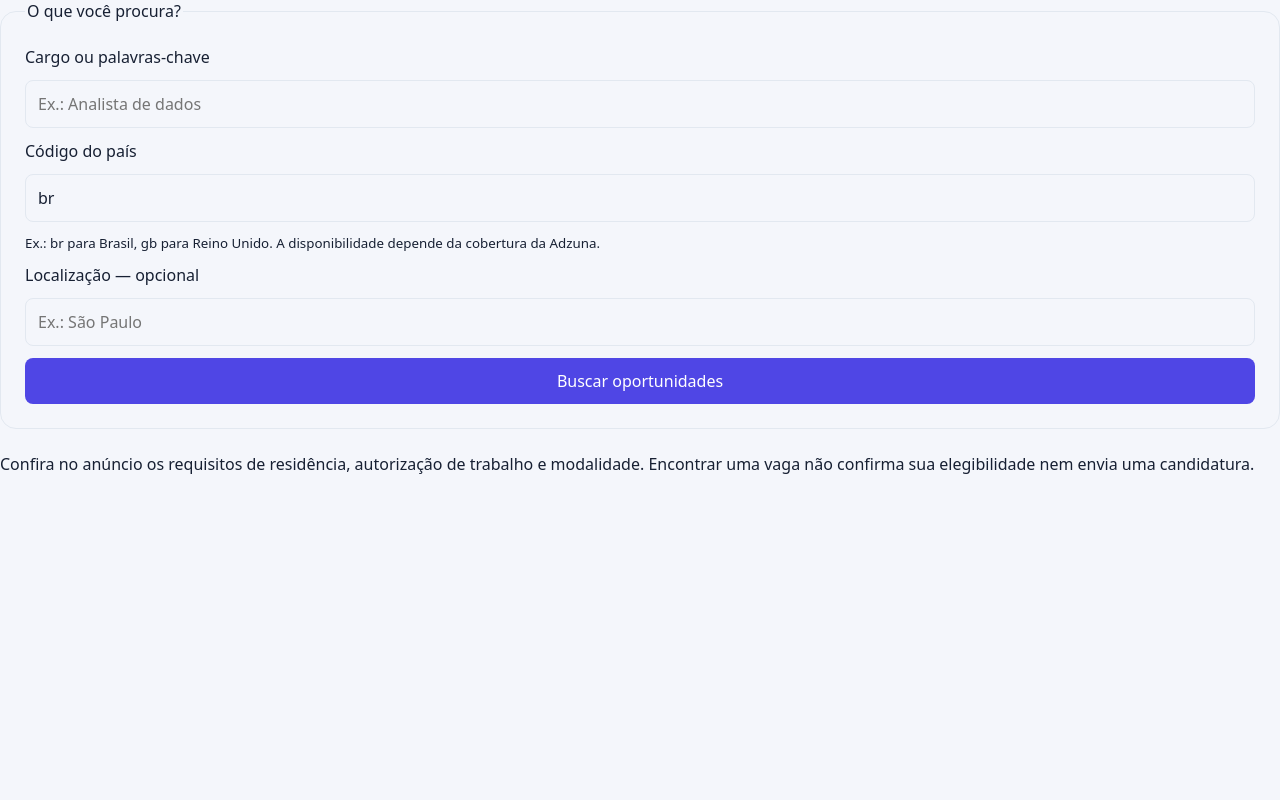
it: Busca de oportunidades › envia os filtros e mostra a vaga retornada
Type "Analista de dados" into the field labelled "Cargo ou palavras-chave" at (640, 104), box [25,80,1255,128]
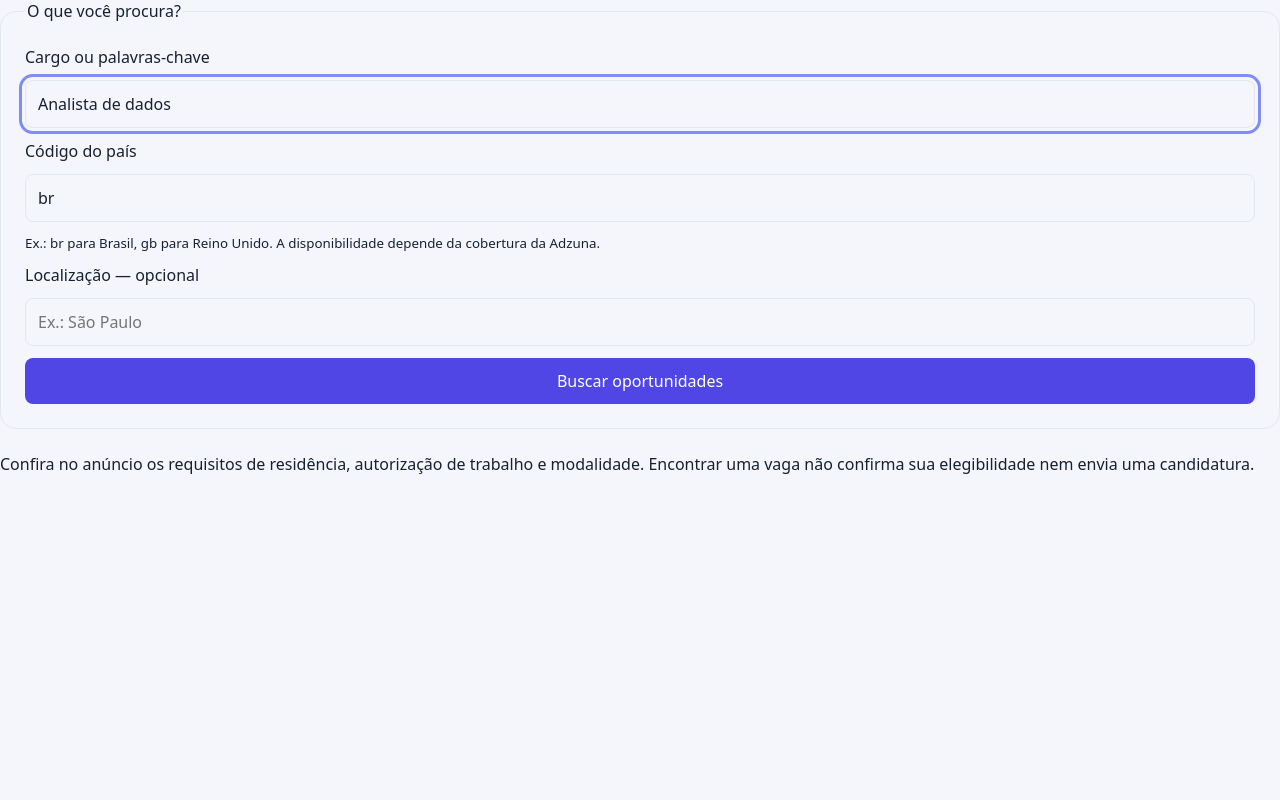
Type "São Paulo" into the field labelled "Localização — opcional" at (640, 322), box [25,298,1255,346]
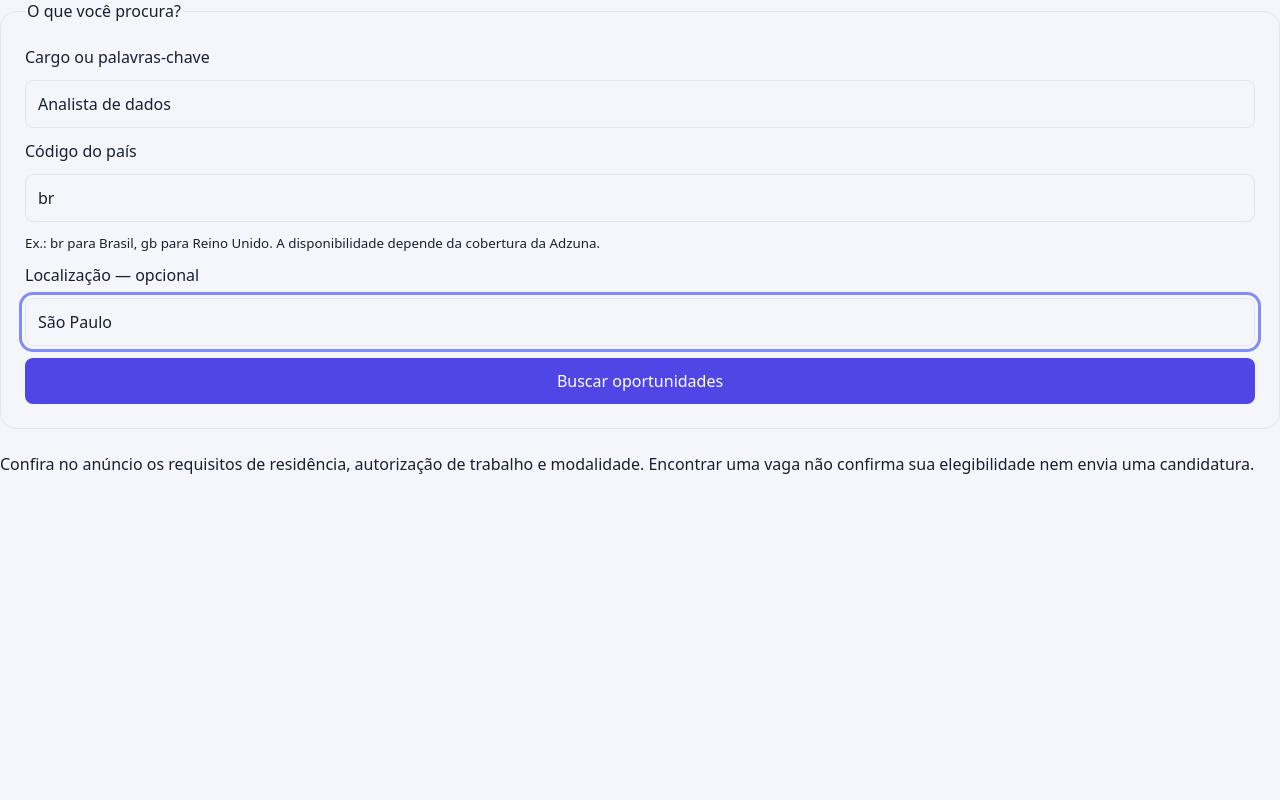
Click the button "Buscar oportunidades" at (640, 381), box [25,358,1255,404]
(page scrolled)
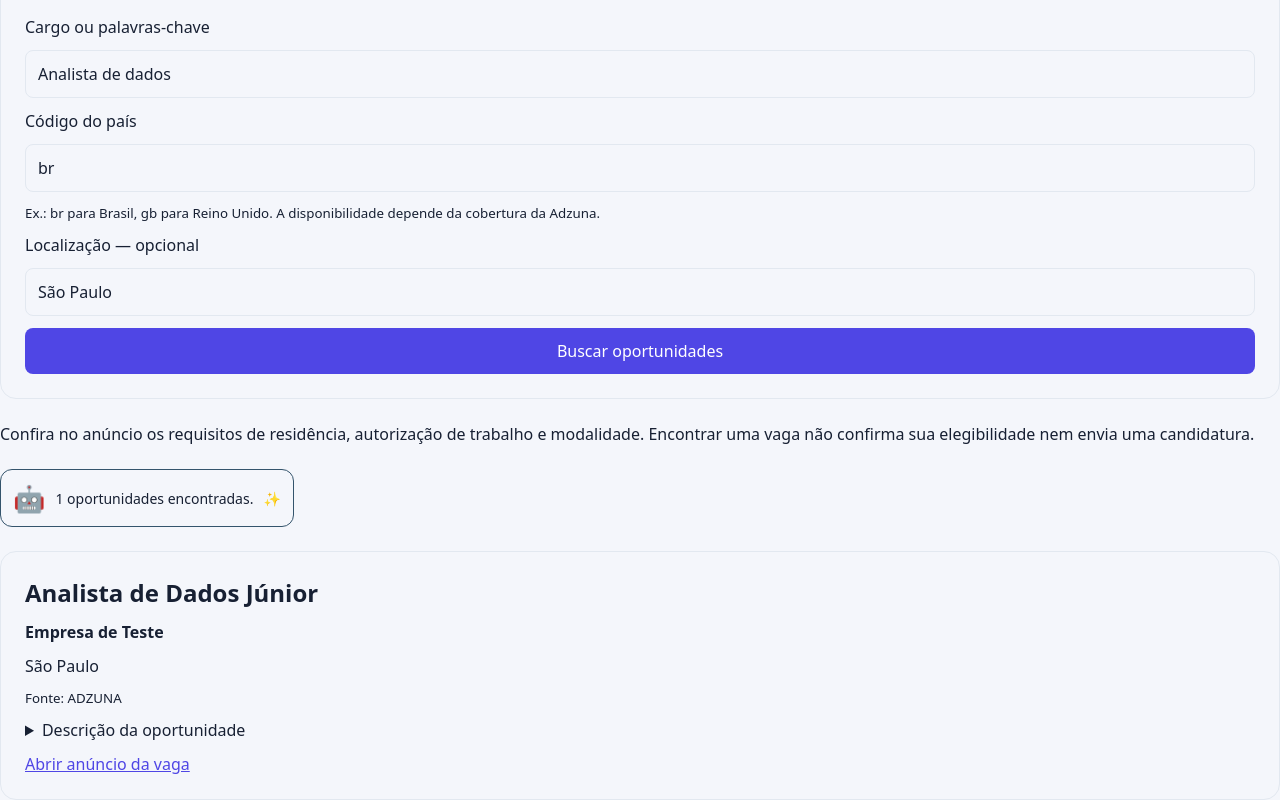
expect the heading "Analista de Dados Júnior" is shown: met, box [25,576,318,609]
